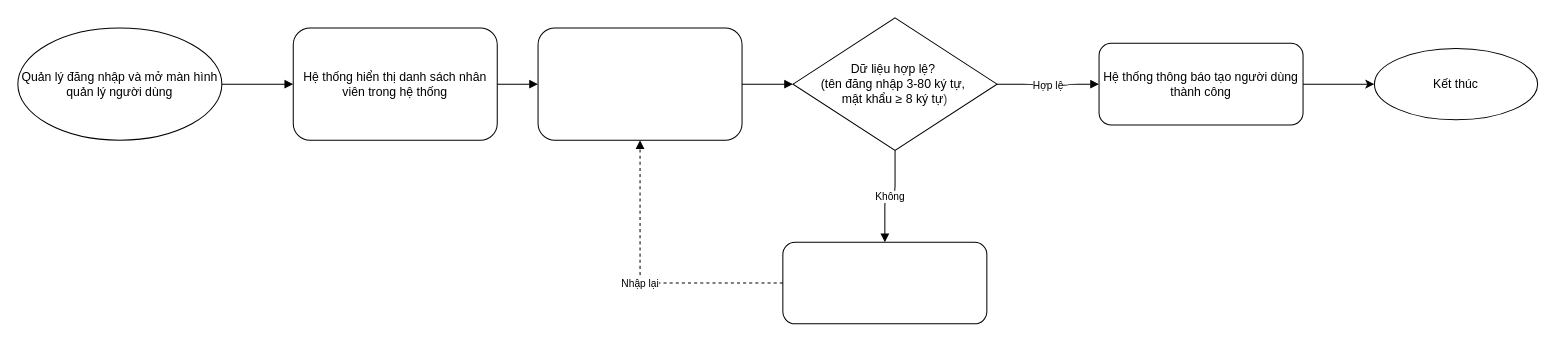
The diagram is 1556 pixels wide and 342 high, and some of its shapes have lost their labels. The centre of each missing label's shape, as x and y in pixels:
Hệ thống báo lỗi theo từng trường: the point at 884,282
Nhập thông tin tài khoản mới: tên đăng nhập, họ tên, mật khẩu, vai trò: the point at 639,83
